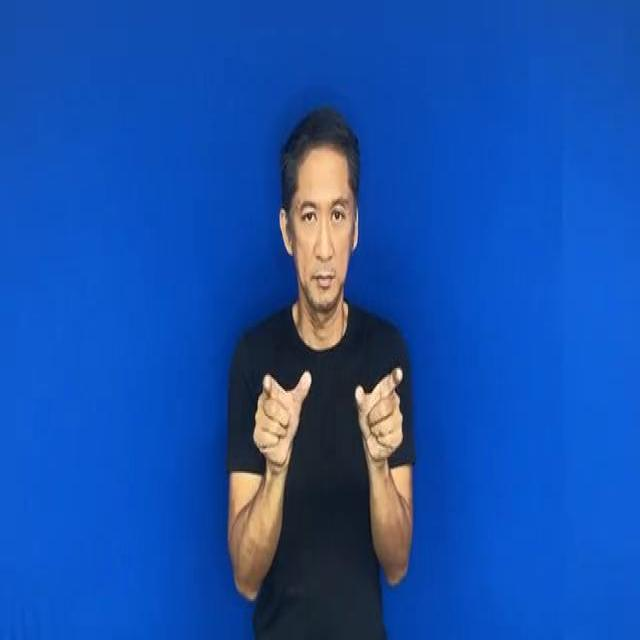crab: (345, 361, 416, 468), (249, 356, 316, 469)
